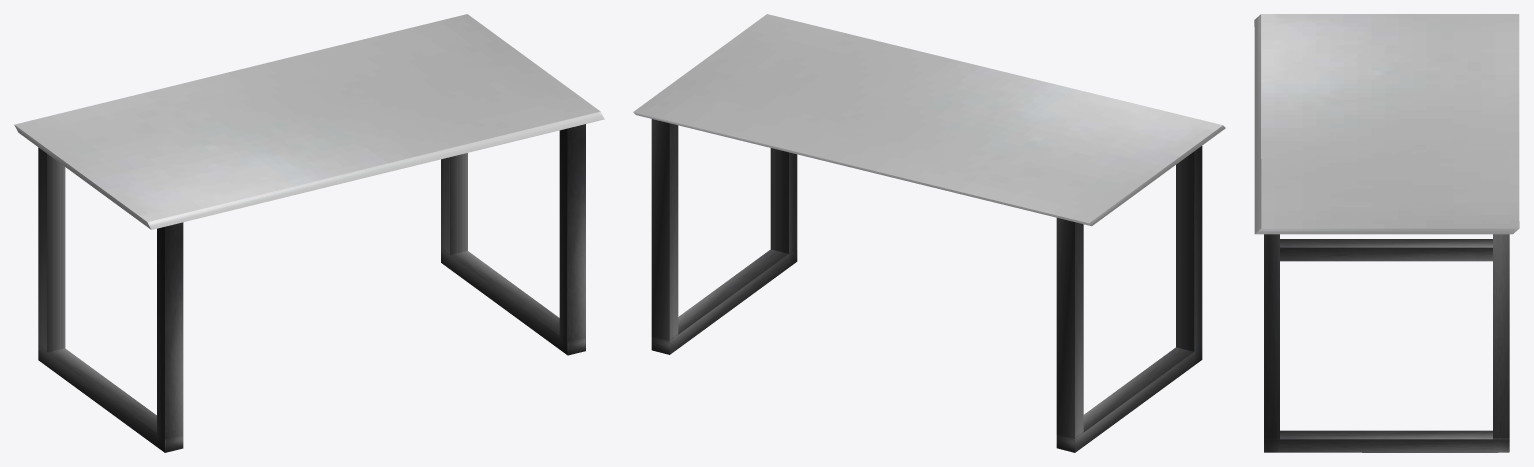
File: mesa maia.fbx
3 renders of one model, left to right at view 1: azimuth 30°, elevation 25°; view 2: azimuth 150°, elevation 25°; view 3: azimuth 270°, elevation 25°, orthographic. The views are drawn at different scales.
Parts seen in each view (by area): view 1: mesa96; view 2: mesa96; view 3: mesa96.
Boxes of the visible parts, x1,y1,x2,y2 form: mesa96: [14, 14, 604, 452]; mesa96: [633, 14, 1225, 452]; mesa96: [1254, 14, 1519, 452].
Size of the model in its own units: 126 by 63.27 by 65.87.
Materials: 2 (2 with a texture image).
